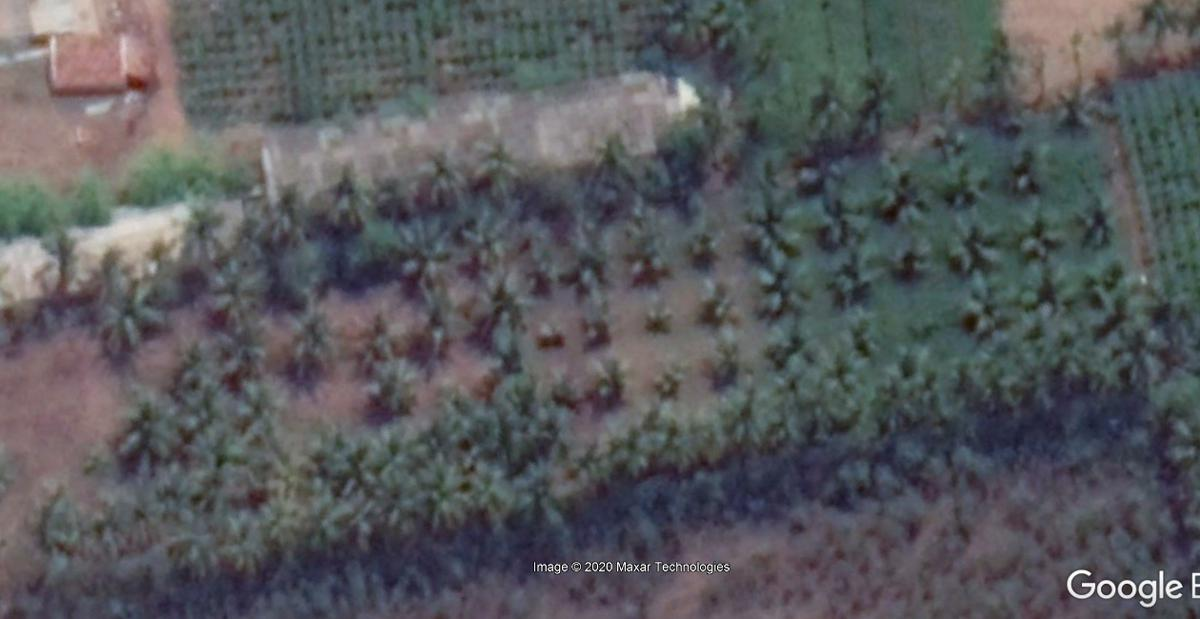coconut: (90, 283, 166, 358), (110, 389, 178, 459), (402, 462, 474, 528), (389, 221, 458, 280), (182, 425, 250, 484), (559, 230, 617, 299), (511, 454, 570, 521), (747, 253, 812, 312), (165, 198, 219, 264), (282, 313, 341, 372), (875, 165, 931, 227), (469, 210, 523, 274), (319, 433, 383, 487), (363, 359, 424, 414), (255, 179, 309, 240), (1011, 204, 1063, 266), (620, 225, 671, 288), (820, 252, 881, 304), (944, 219, 1000, 273), (838, 302, 890, 359), (715, 383, 767, 440), (849, 59, 904, 112), (1111, 320, 1163, 374), (1071, 194, 1119, 251), (952, 278, 1004, 330), (682, 210, 727, 267), (322, 159, 372, 210), (688, 274, 736, 327), (869, 382, 923, 429), (940, 156, 989, 207), (356, 308, 403, 361), (175, 518, 221, 572), (588, 349, 636, 400), (1003, 144, 1050, 196), (886, 231, 935, 278), (1053, 76, 1098, 125), (425, 153, 469, 201), (800, 76, 842, 122)
